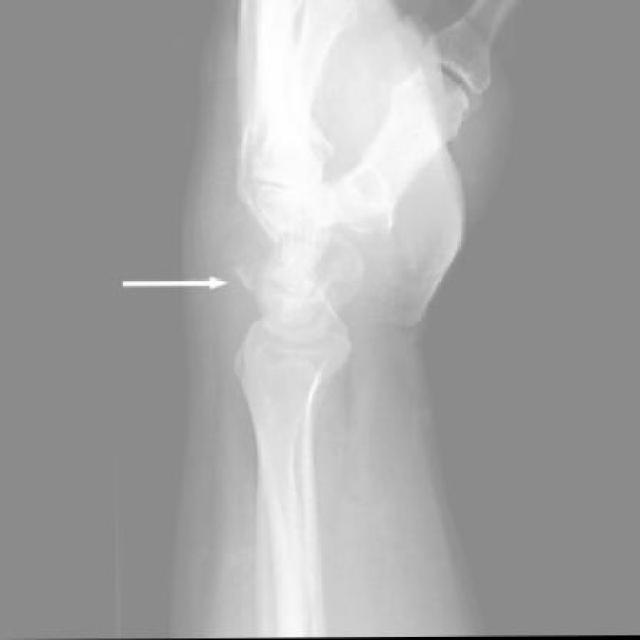Fracture: (231, 254, 268, 299)
